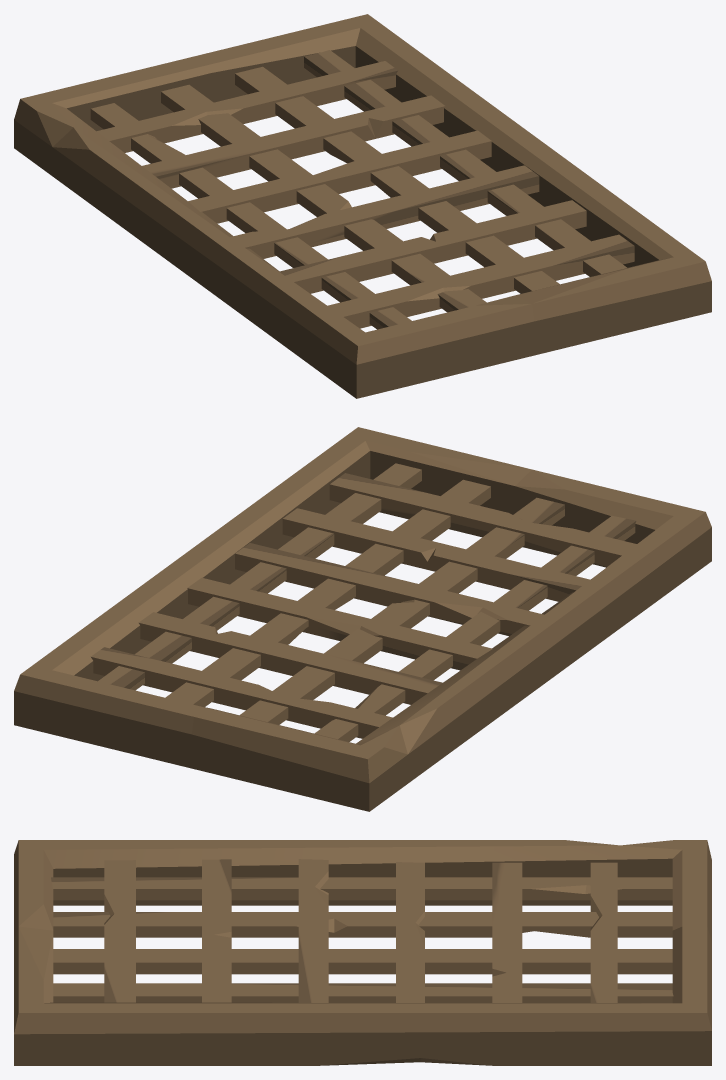
File: SM_Veh_Ship_Grate_02.fbx
3 views of the same model, one above another, from view 1: azimuth 30°, elevation 25°; view 2: azimuth 150°, elevation 25°; view 3: azimuth 270°, elevation 25° (orthographic).
Parts seen in each view (by area): view 1: SM_Veh_Ship_Grate_02; view 2: SM_Veh_Ship_Grate_02; view 3: SM_Veh_Ship_Grate_02.
Part boxes in pixels (x1,y1,x2,y2): SM_Veh_Ship_Grate_02: (14,14,711,398); SM_Veh_Ship_Grate_02: (14,427,711,811); SM_Veh_Ship_Grate_02: (14,840,711,1065).
Bounding box in the file's own units: 259 × 34.88 × 433.
